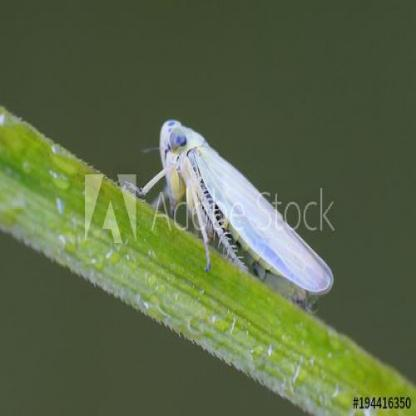Green-Leafhopper: (124, 118, 336, 306)
